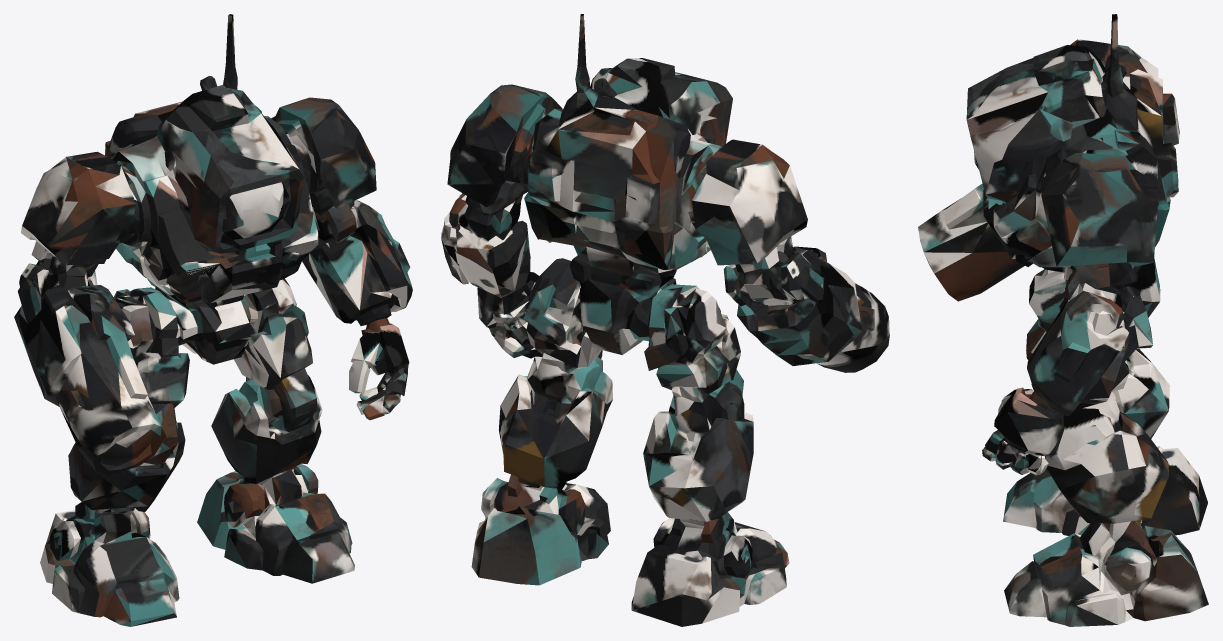
File: shooter_meshy_flat.fbx
3 renders of one model, left to right at view 1: azimuth 30°, elevation 25°; view 2: azimuth 150°, elevation 25°; view 3: azimuth 270°, elevation 25°, orthographic. The views are drawn at different scales.
Visible parts, largest first — view 1: output_unwrapped; view 2: output_unwrapped; view 3: output_unwrapped.
Part boxes in pixels (x1,y1,x2,y2): output_unwrapped: [14, 14, 412, 626]; output_unwrapped: [441, 14, 889, 626]; output_unwrapped: [918, 14, 1208, 626].
Size of the model in its own units: 1.42 by 1.9 by 0.8912.
